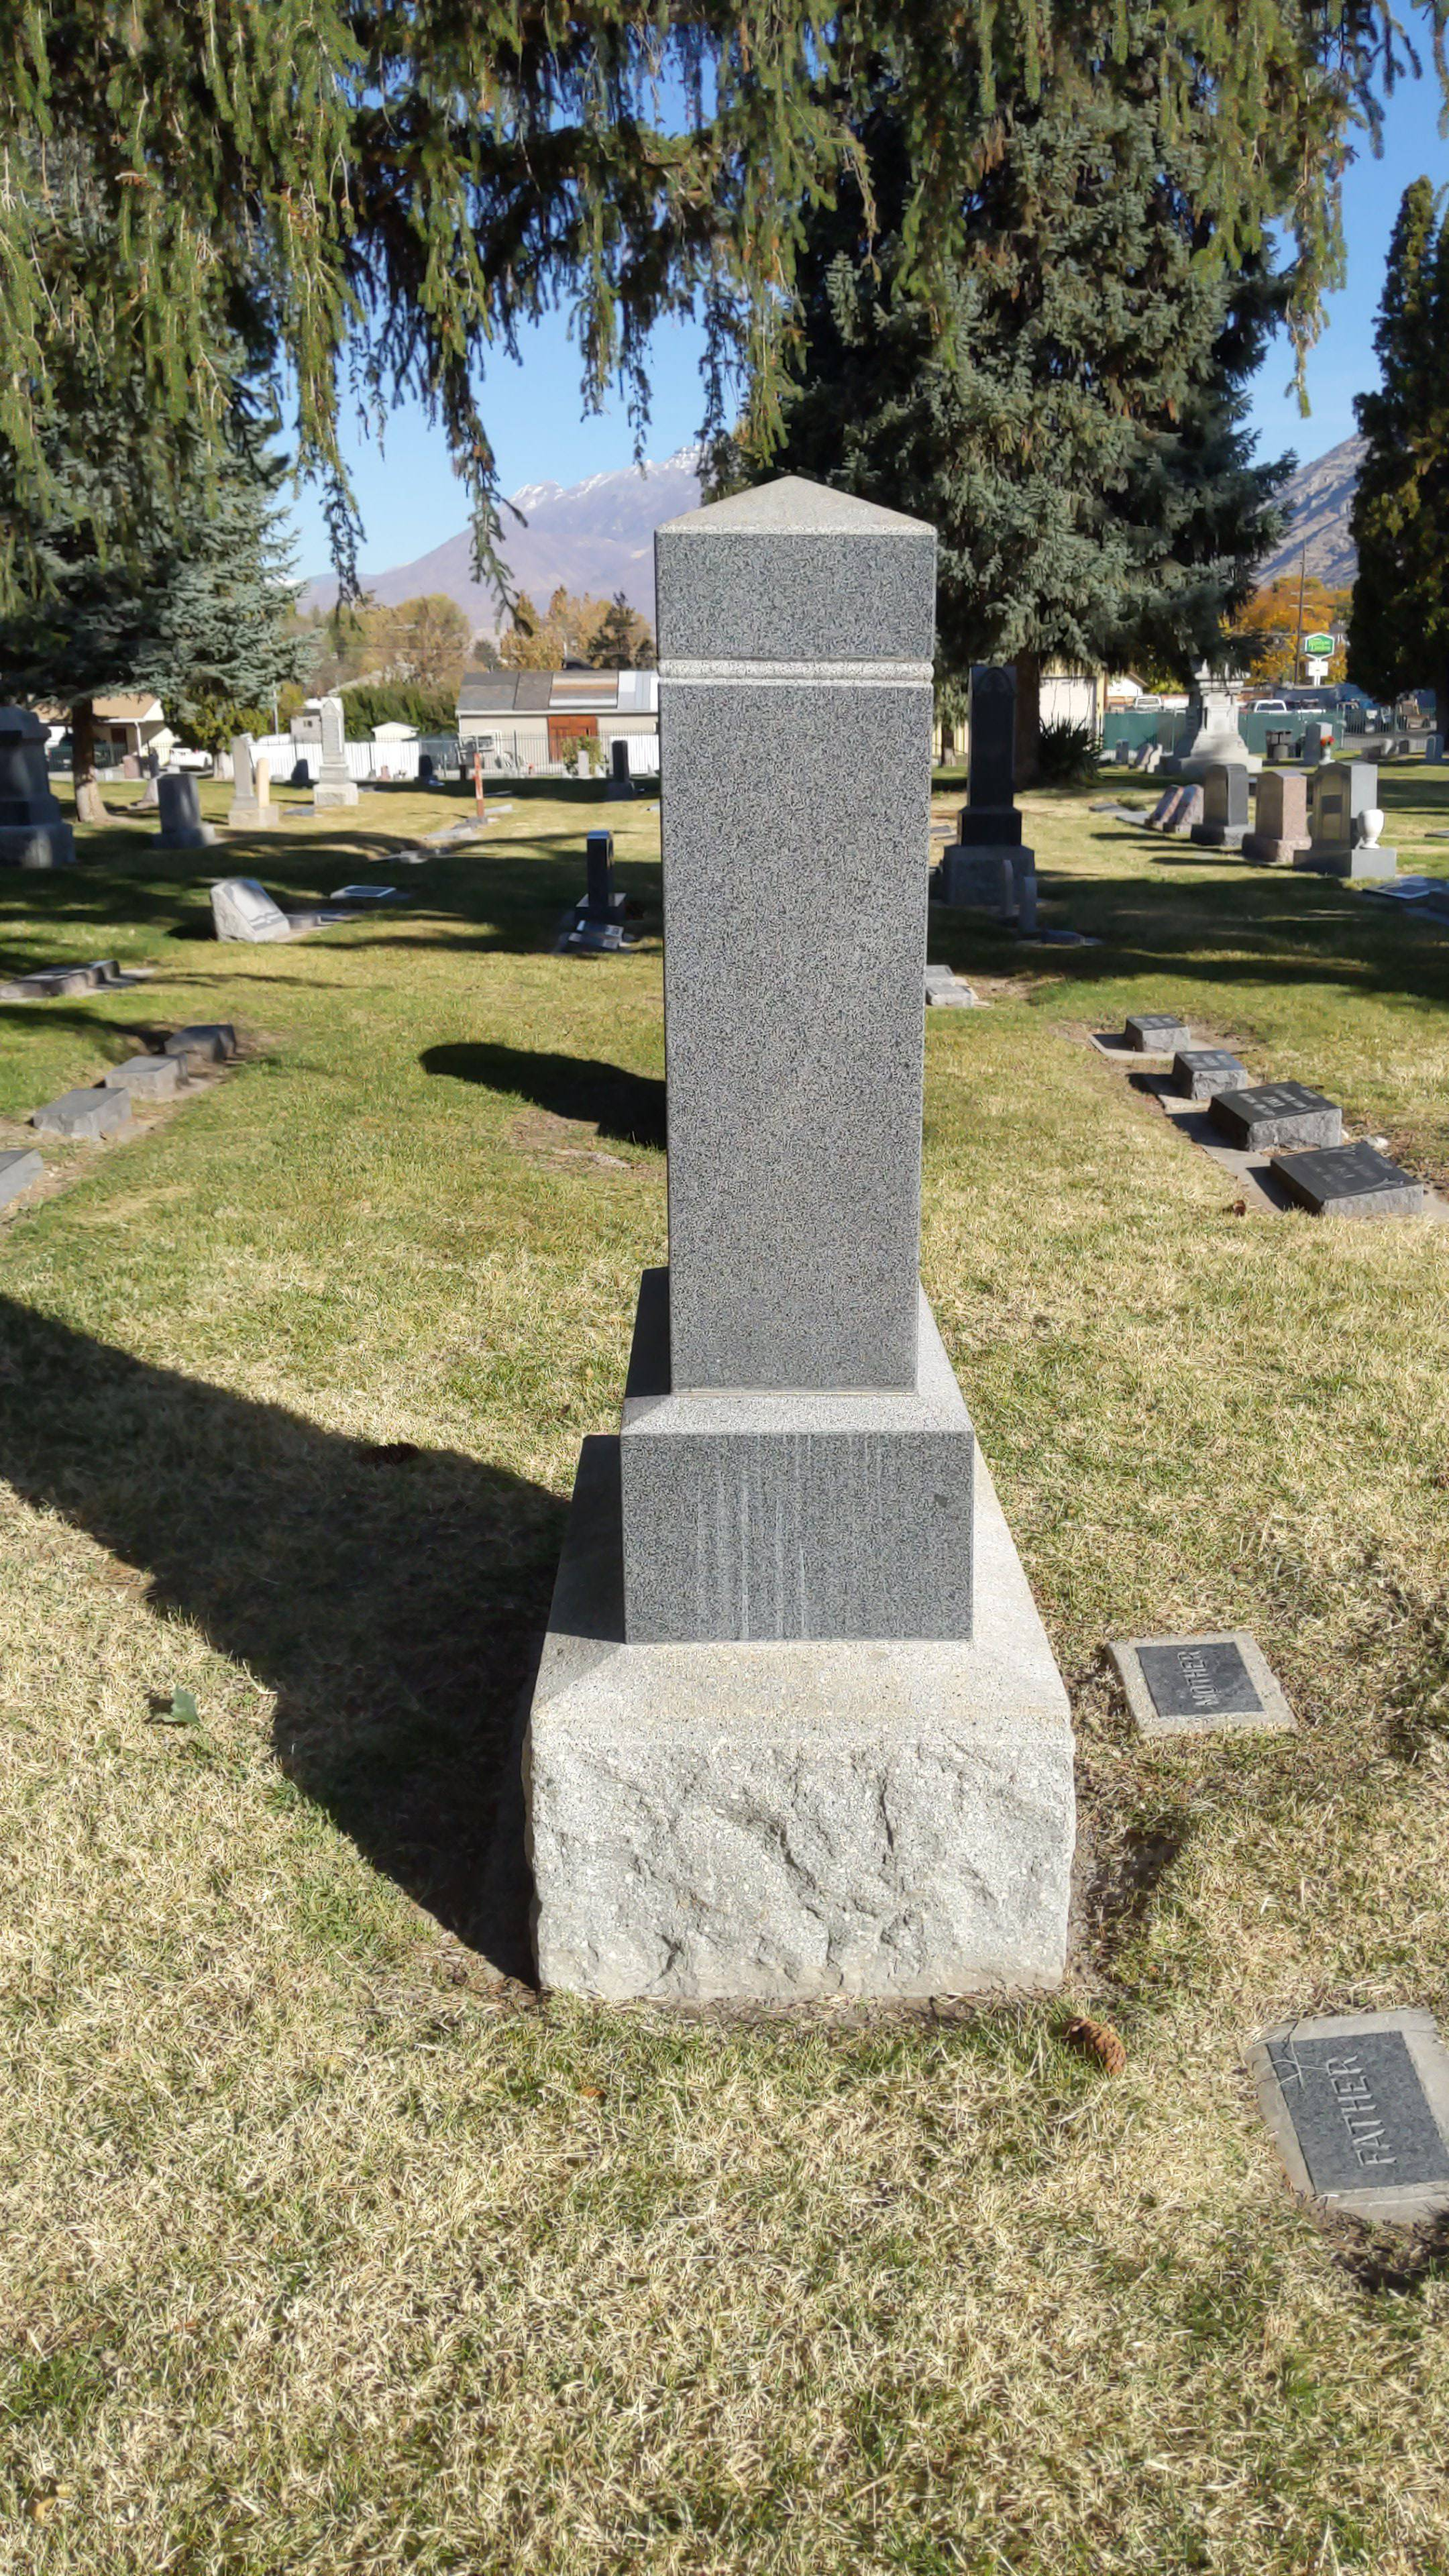obelisk: (616, 478, 966, 1649)
